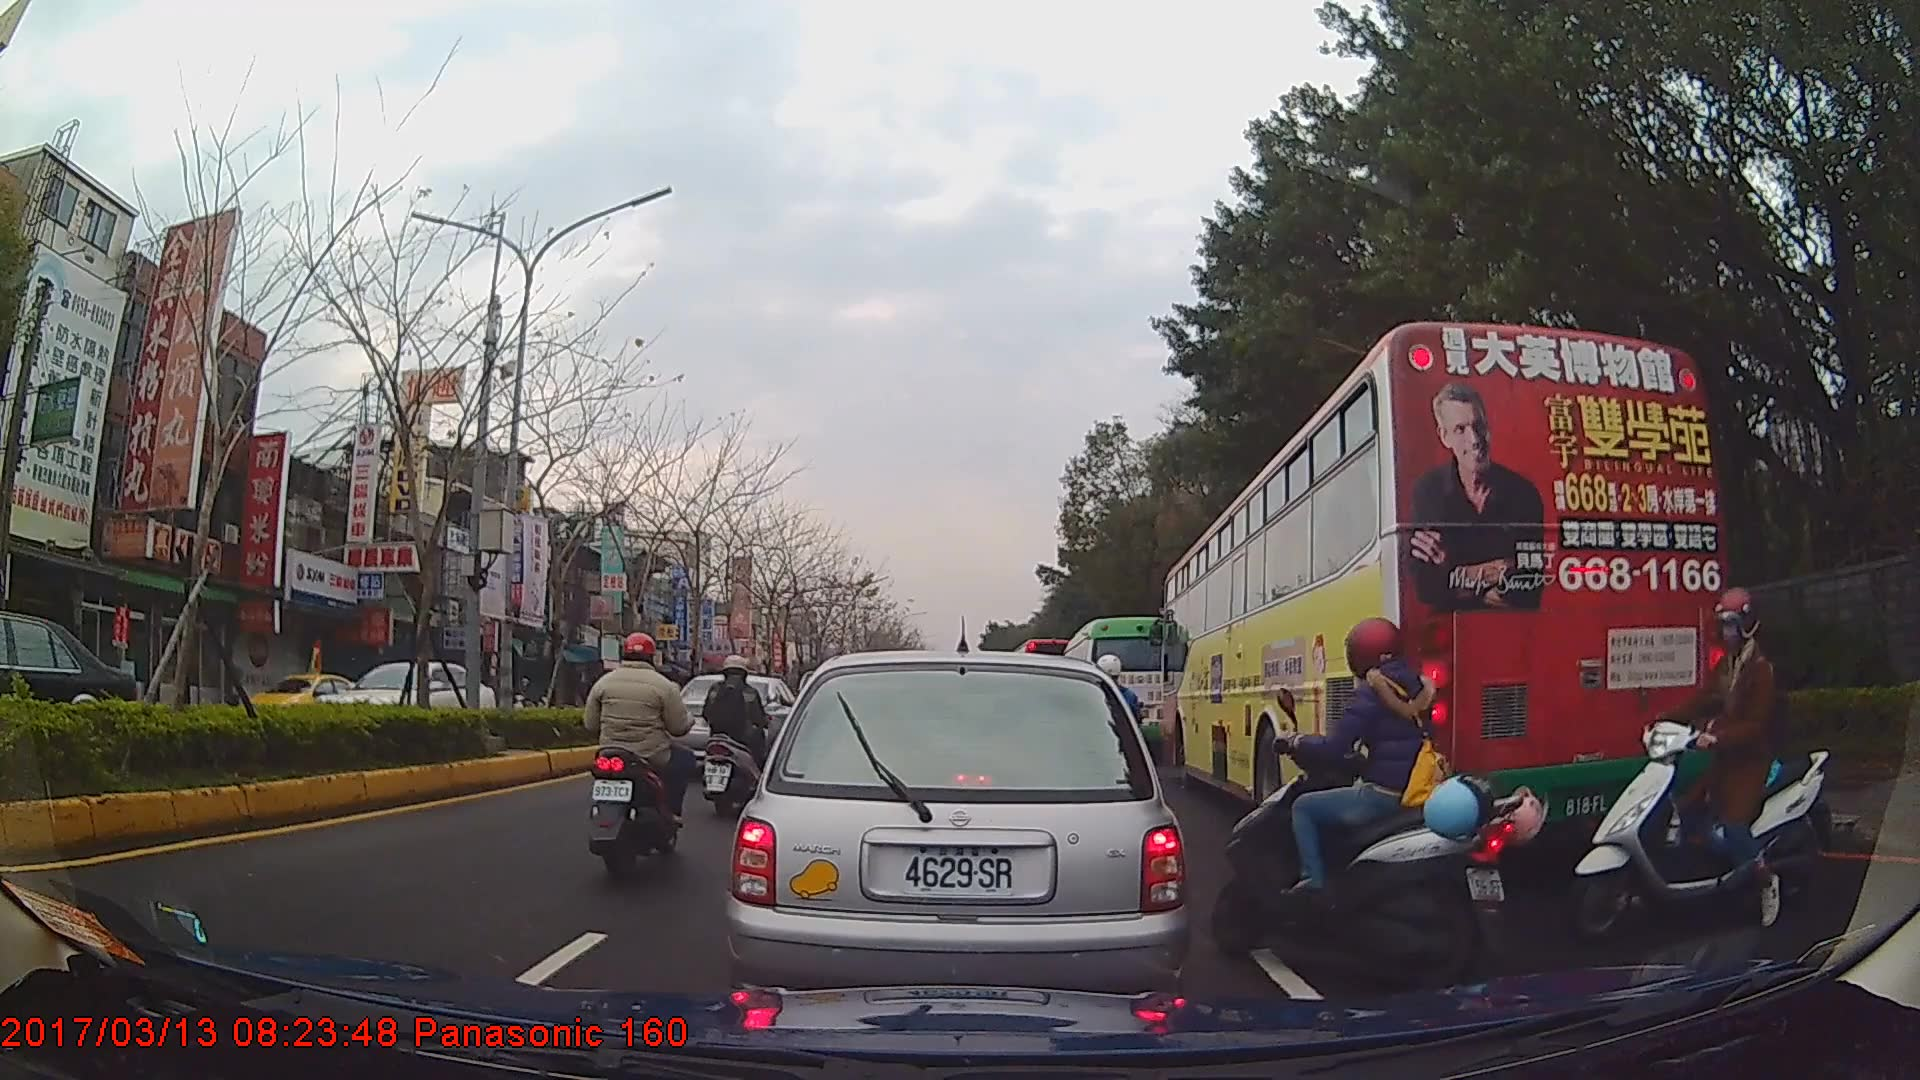rider: (1223, 613, 1544, 987), (1569, 587, 1833, 946), (585, 630, 695, 885), (699, 652, 769, 798)
vehicle: (1160, 319, 1727, 848), (729, 649, 1185, 1012), (0, 611, 131, 764), (1058, 615, 1183, 766), (320, 656, 495, 739), (240, 665, 376, 729)
